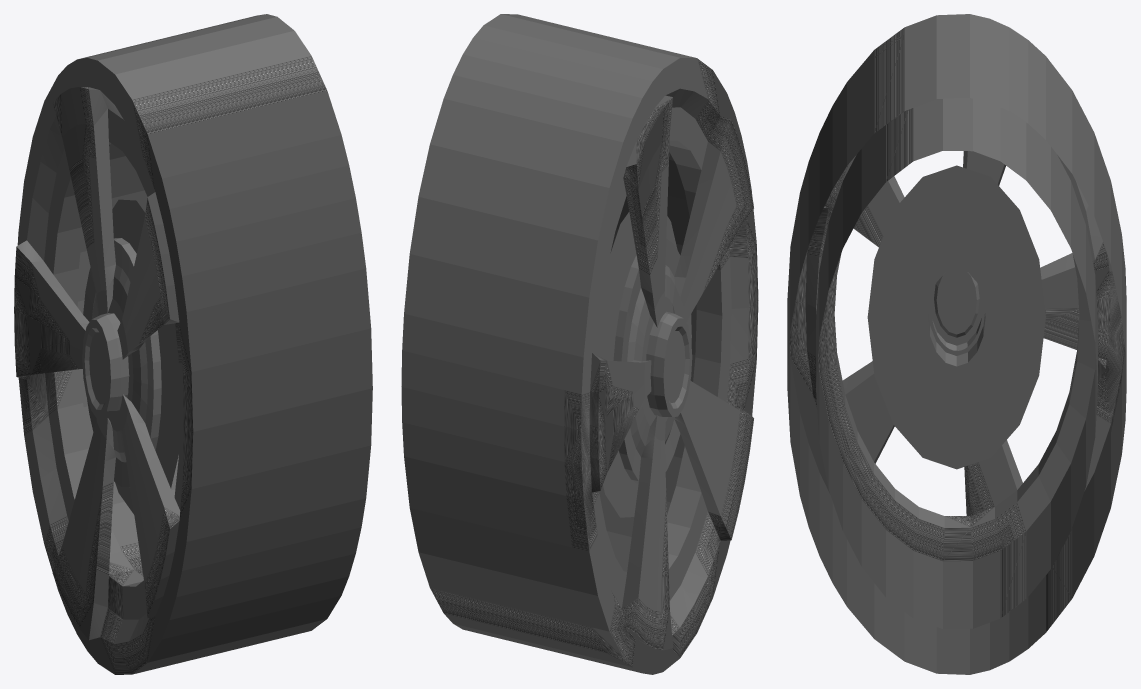
Rendered from rinIzq.fbx.
The picture shows the model from 3 angles, left to right: view 1: azimuth 30°, elevation 25°; view 2: azimuth 150°, elevation 25°; view 3: azimuth 270°, elevation 25°; orthographic projection. The views are drawn at different scales.
Parts seen in each view (by area): view 1: rin.001; view 2: rin.001; view 3: rin.001.
Boxes of the visible parts, x1,y1,x2,y2 form: rin.001: [14, 14, 372, 674]; rin.001: [401, 14, 758, 674]; rin.001: [787, 14, 1126, 674].
Size of the model in its own units: 57.98 by 170 by 90.57.
